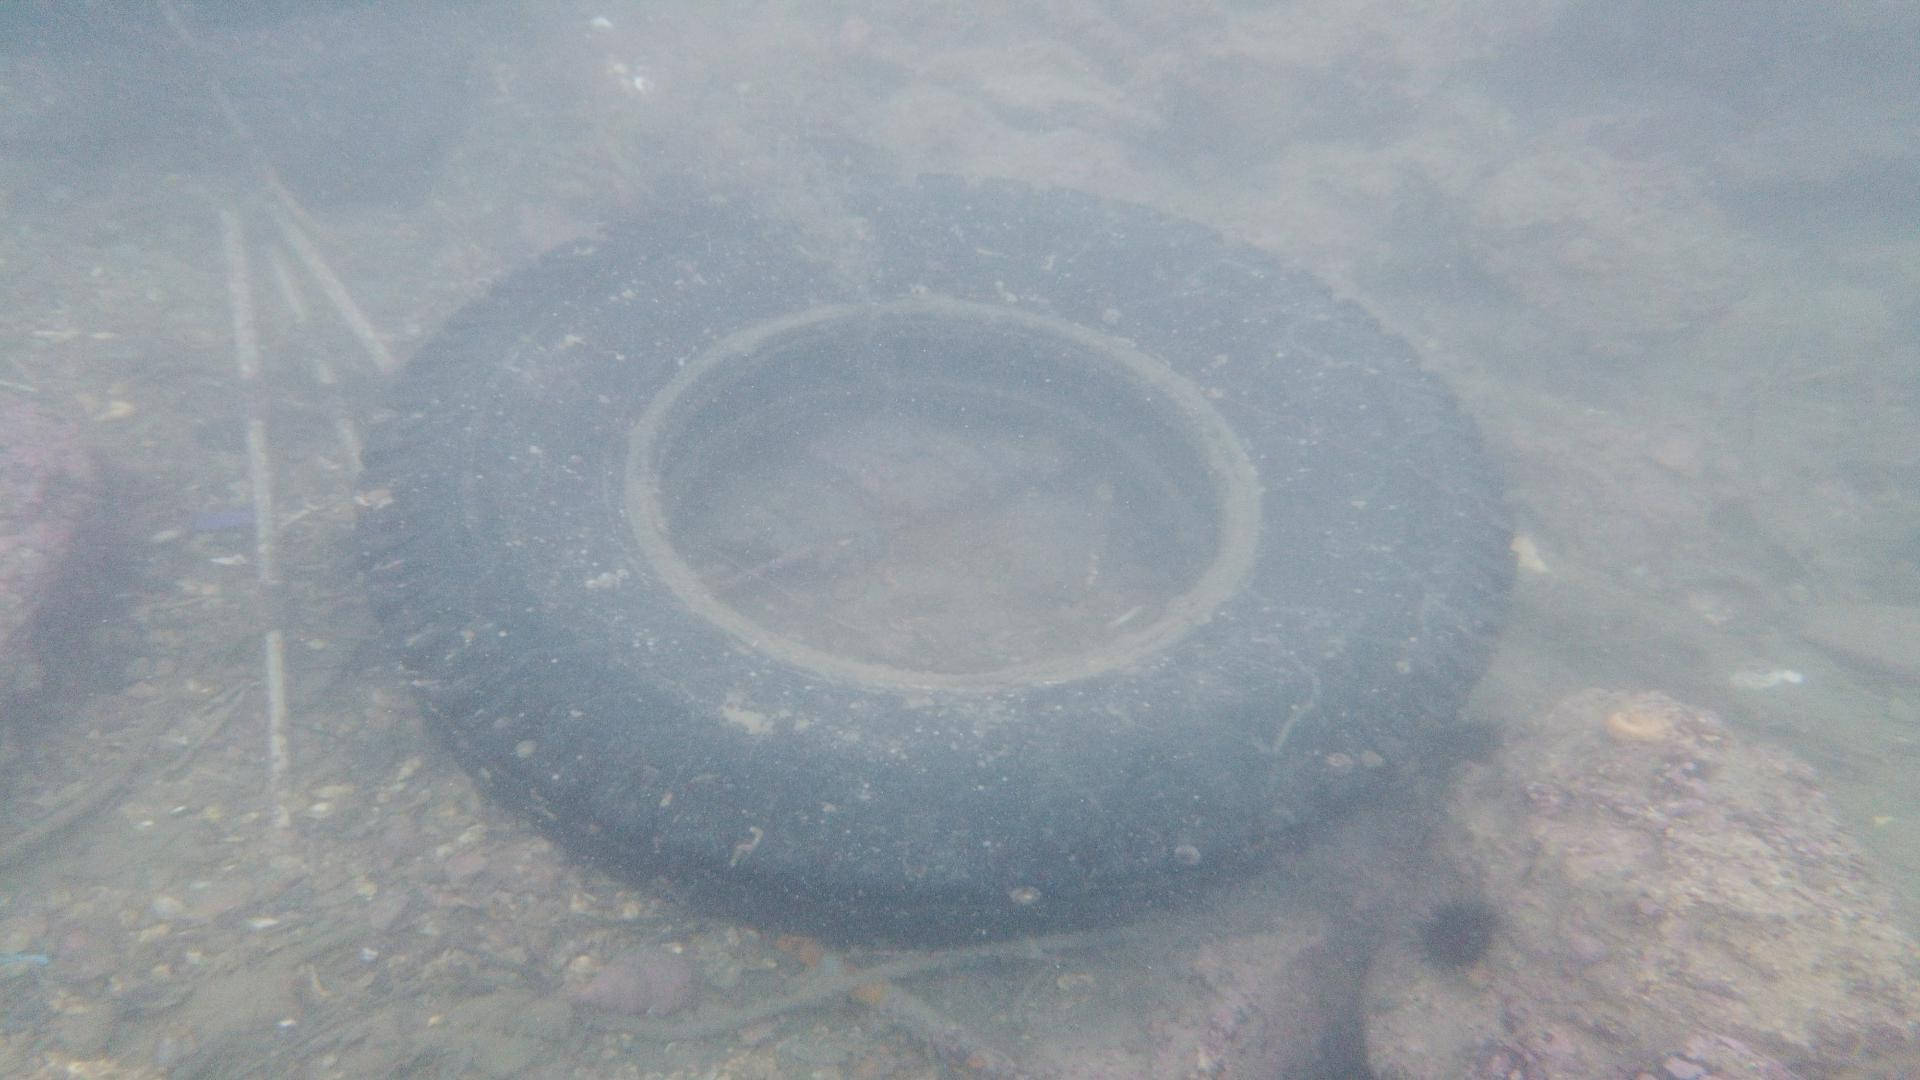tire: (360, 167, 1520, 948)
